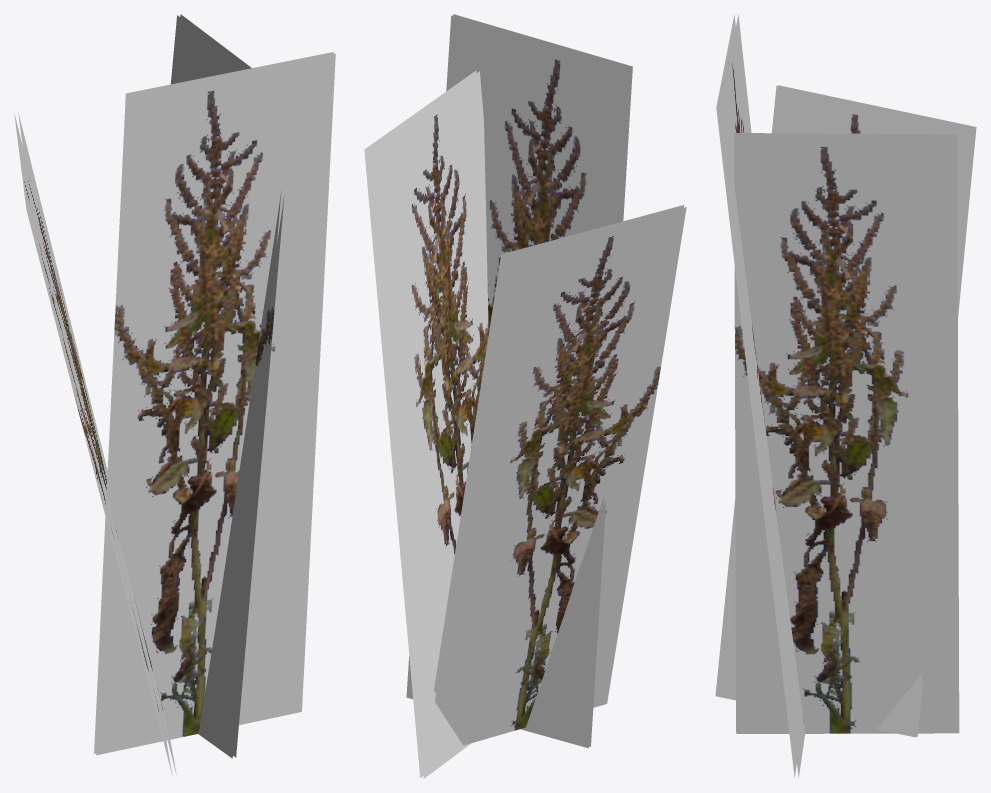
Rendered from grassweed04.fbx.
The picture shows the model from 3 angles, left to right: view 1: azimuth 30°, elevation 25°; view 2: azimuth 150°, elevation 25°; view 3: azimuth 270°, elevation 25°; orthographic projection. The views are drawn at different scales.
Visible parts, largest first — view 1: grassweed04; view 2: grassweed04; view 3: grassweed04.
Boxes of the visible parts, x1,y1,x2,y2 form: grassweed04: (14,14,335,777); grassweed04: (364,14,686,778); grassweed04: (715,14,976,778).
Size of the model in its own units: 29.61 by 68.72 by 24.32.
